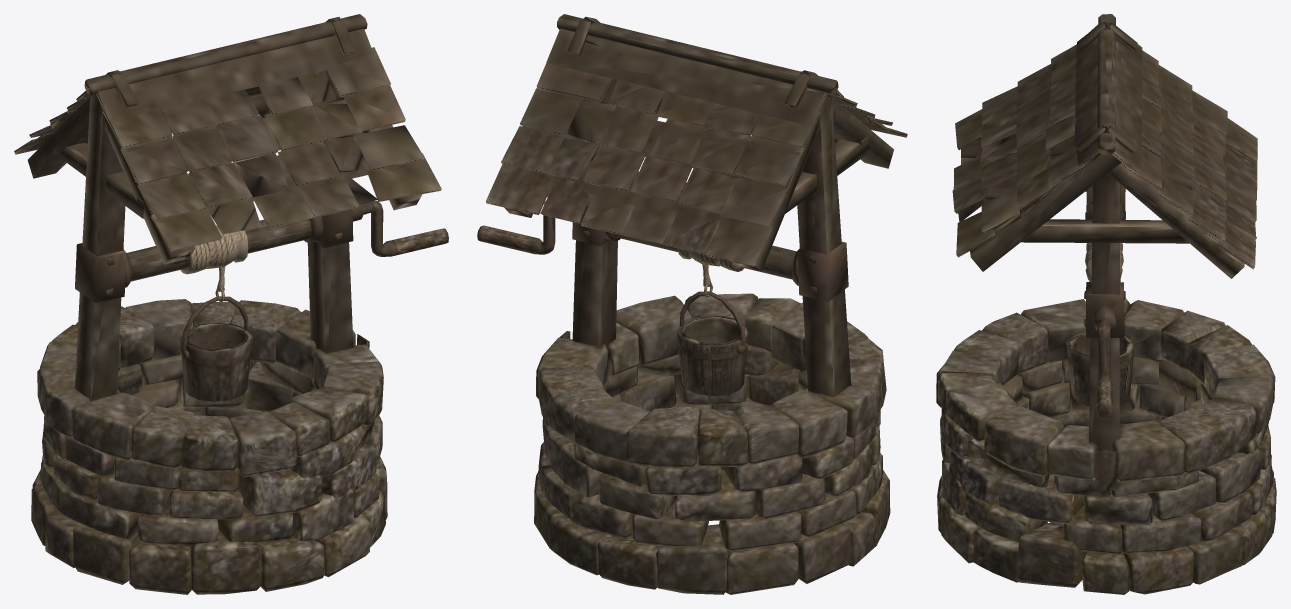
The model's file is x_well.glb.
The picture shows the model from 3 angles, left to right: view 1: azimuth 30°, elevation 25°; view 2: azimuth 150°, elevation 25°; view 3: azimuth 270°, elevation 25°; orthographic projection. The views are drawn at different scales.
Visible parts, largest first — view 1: x_well; view 2: x_well; view 3: x_well.
Part boxes in pixels (x1,y1,x2,y2): x_well: (14, 14, 448, 594); x_well: (477, 14, 907, 594); x_well: (936, 14, 1276, 594).
Bounding box in the file's own units: 0.6518 × 0.7577 × 0.5135.
Materials: 1 (1 with a texture image).
